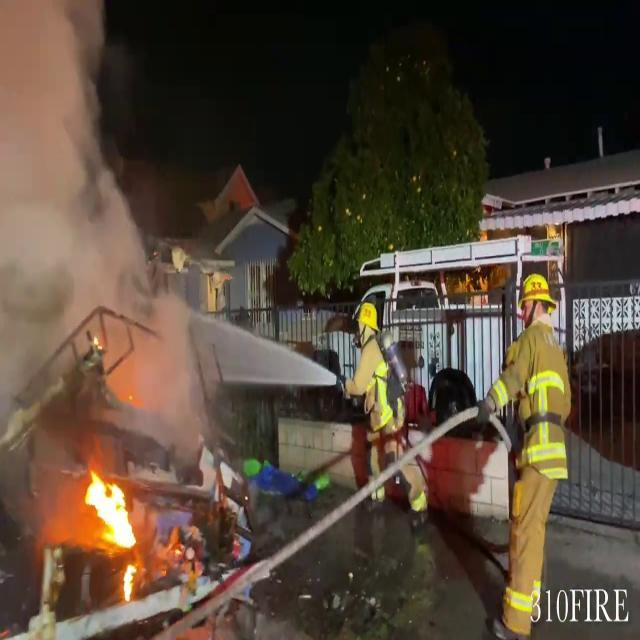Fire: (74, 466, 156, 600)
Smoke: (0, 0, 220, 509)
